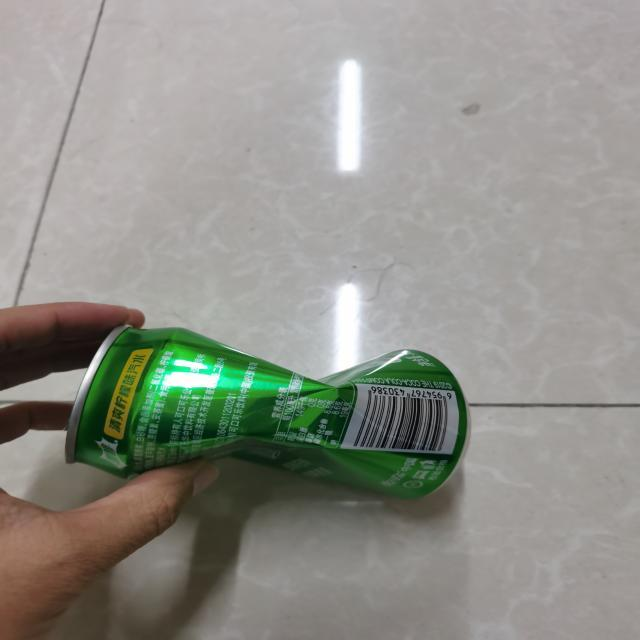kimloai: (66, 328, 469, 498)
